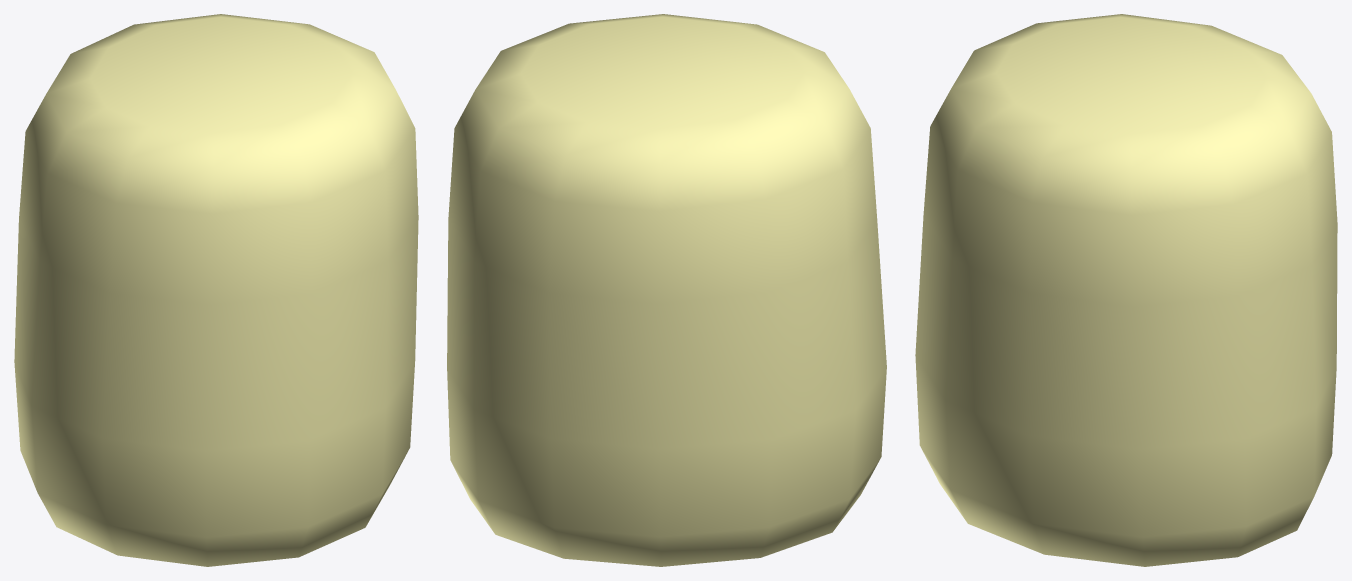
Rendered from Marshmallow_07.glb.
3 views of the same model, side by side, from view 1: azimuth 30°, elevation 25°; view 2: azimuth 150°, elevation 25°; view 3: azimuth 270°, elevation 25° (orthographic). The views are drawn at different scales.
Parts seen in each view (by area): view 1: Marshmallow_07; view 2: Marshmallow_07; view 3: Marshmallow_07.
Boxes of the visible parts, x1=… form: Marshmallow_07: x1=14, y1=14, x2=418, y2=566; Marshmallow_07: x1=447, y1=14, x2=886, y2=566; Marshmallow_07: x1=915, y1=14, x2=1337, y2=566.
Bounding box in the file's own units: 1.1 × 1.22 × 1.08.
1 material, 1 textured.
